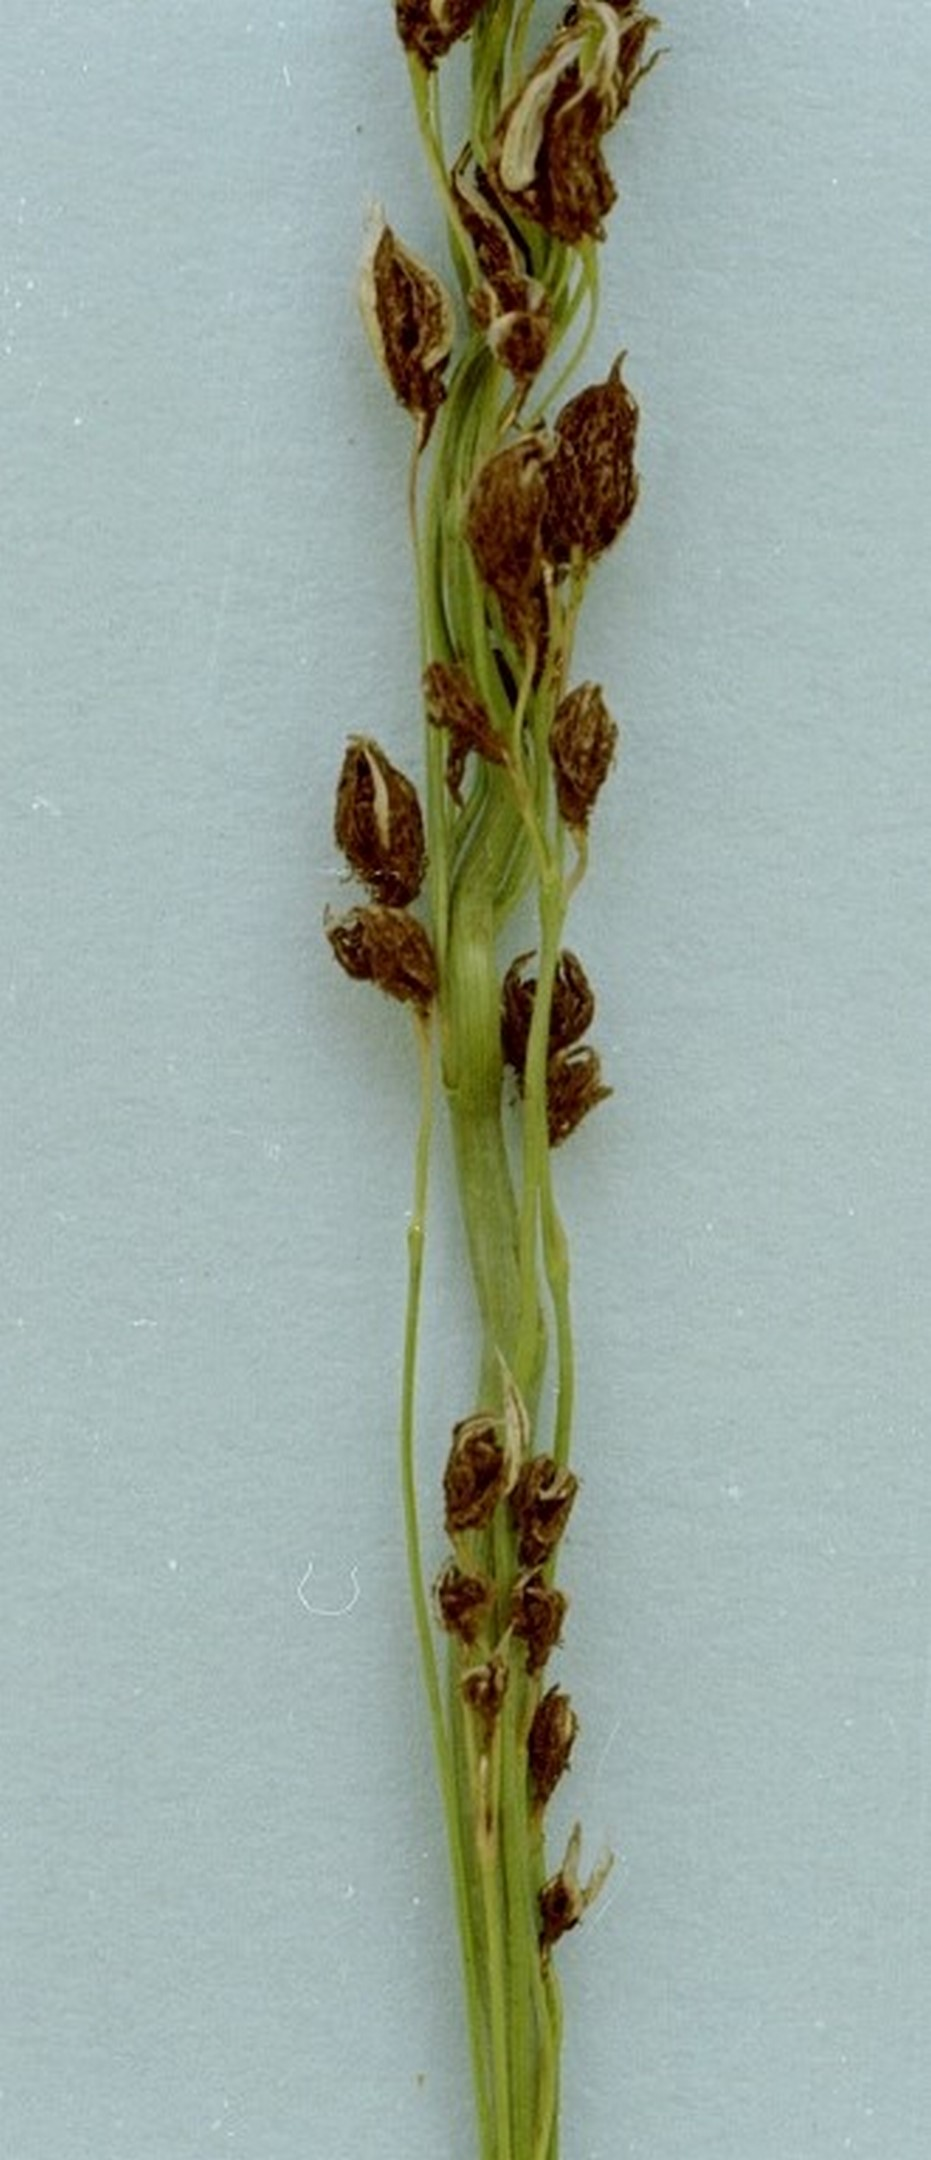Wheat Loose Smut: (269, 26, 778, 1198)
